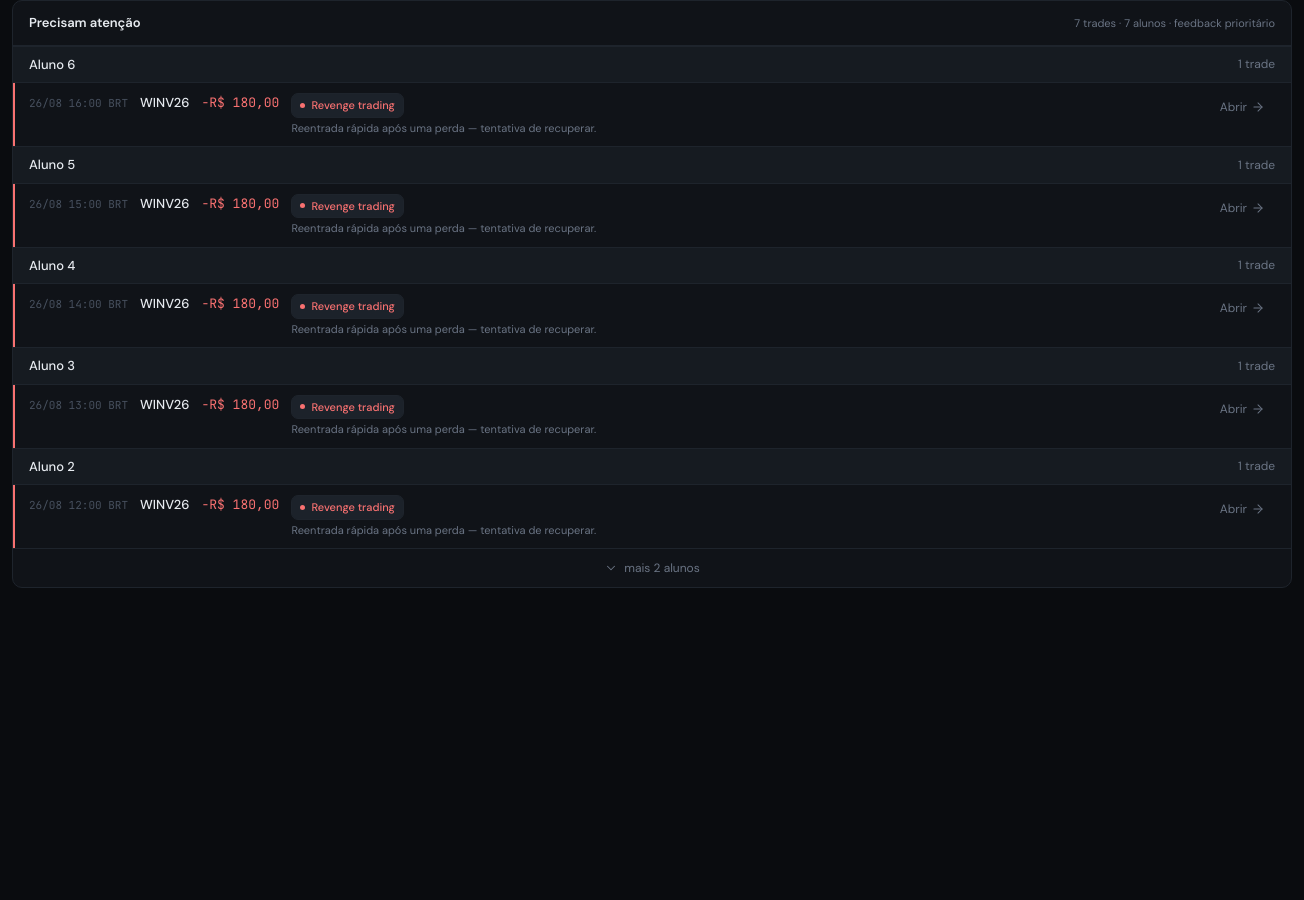
Test case: <PrecisamAtencaoLista /> › colapsa a partir do 6º aluno
Expected: the number of elements with test id "precisam-atencao-linha" is 5, top-left (13, 82), bottom-right (1291, 146); top-left (13, 182), bottom-right (1291, 246); top-left (13, 283), bottom-right (1291, 347); top-left (13, 384), bottom-right (1291, 448); top-left (13, 484), bottom-right (1291, 548)
Click the button "mais 2 alunos" at (652, 568), box top-left (13, 548), bottom-right (1291, 587)
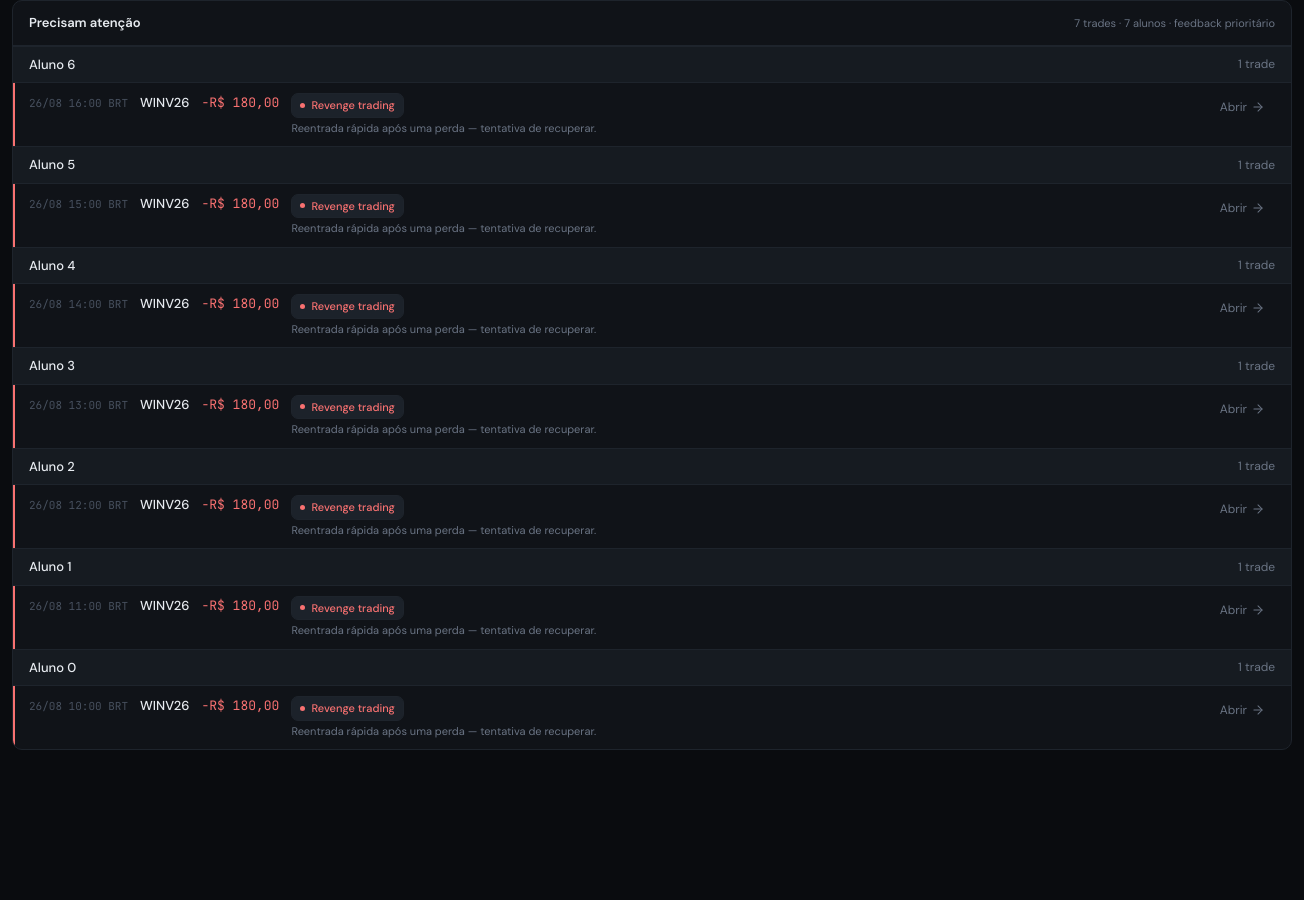
Expected: the number of elements with test id "precisam-atencao-linha" is 7
